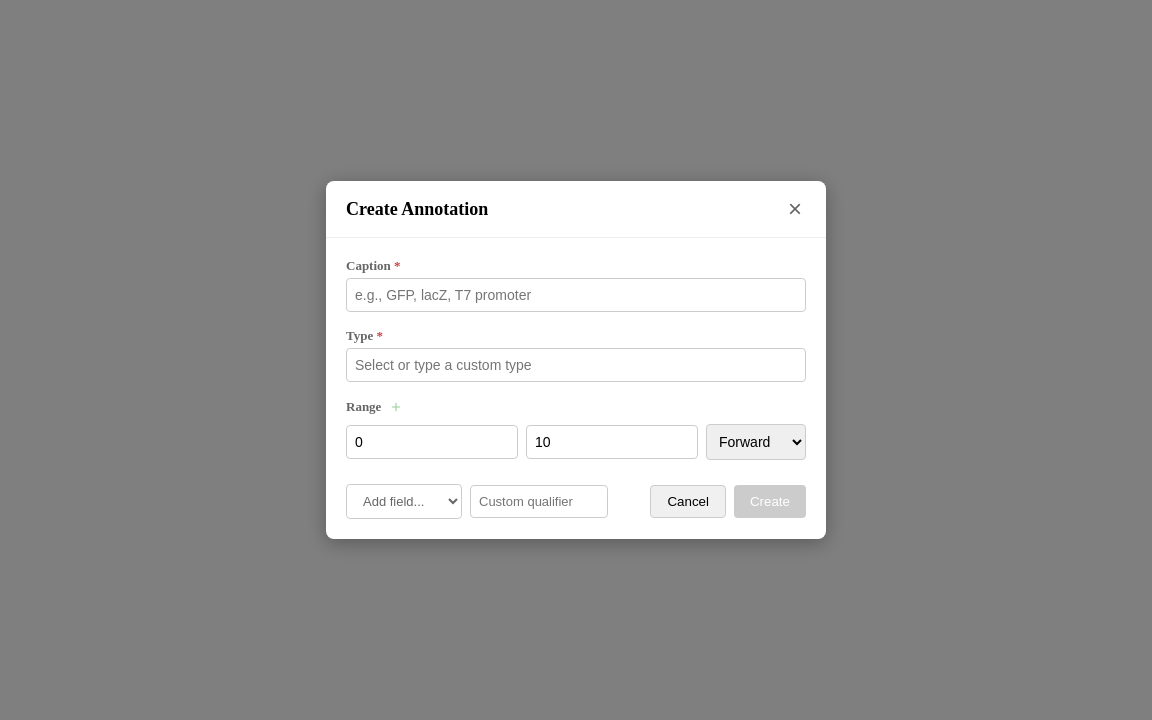
Test: AnnotationModal › optional fields › adds optional field when selected from dropdown
Select "Gene" in the dropdown with class "add-field-select" at (404, 502), box 346,484 -> 462,519
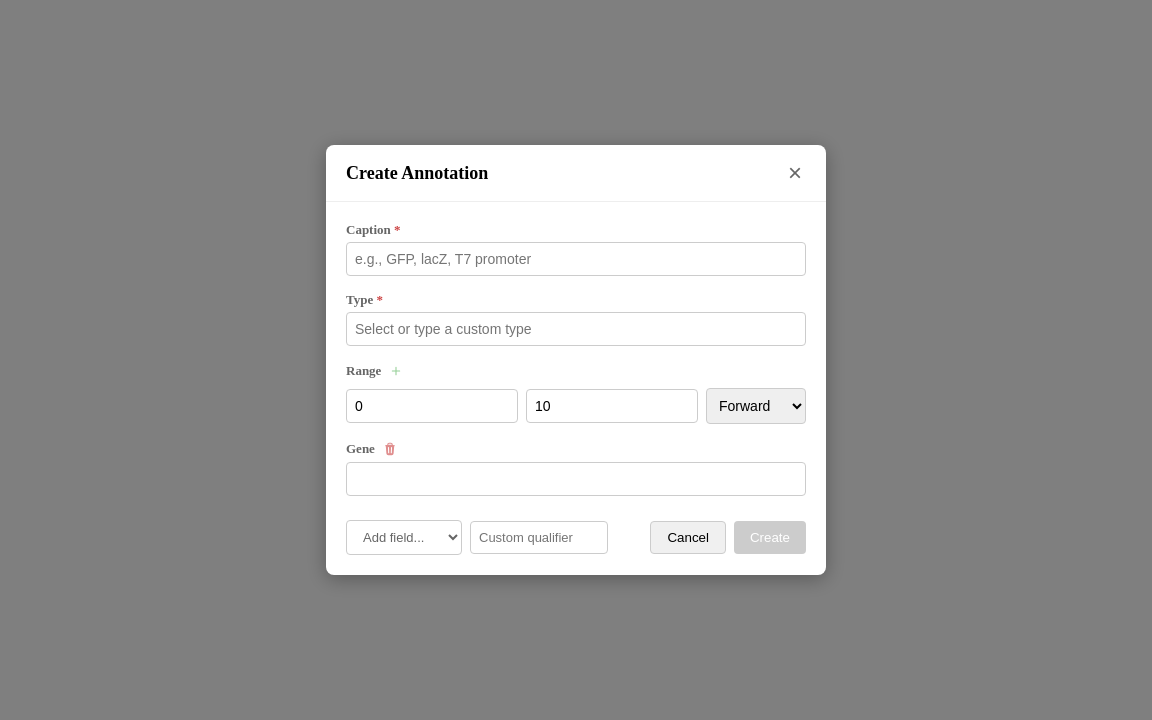
Now the field with id "annotation-attr-gene" is shown, box 346,462 -> 806,496
